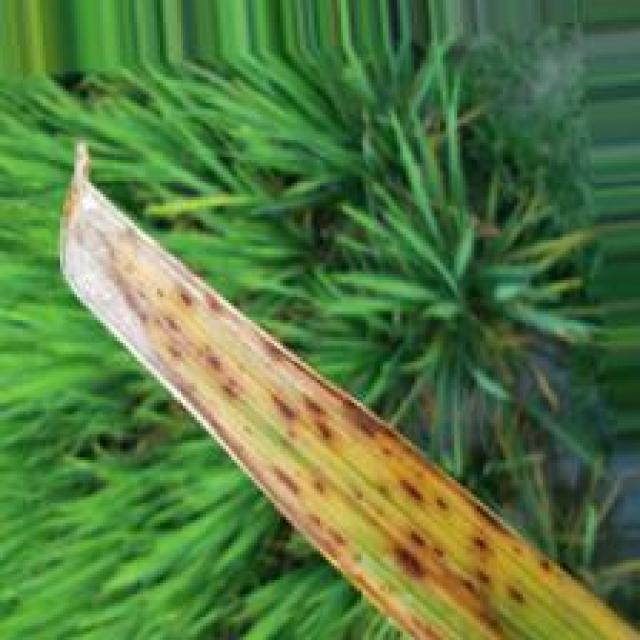Narrow_Brown_Leaf_Spot: (53, 144, 640, 640)
